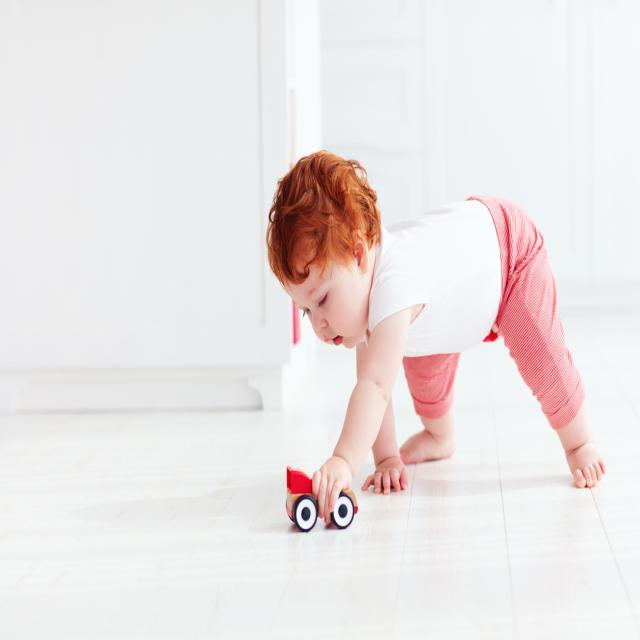child: (264, 149, 608, 526)
